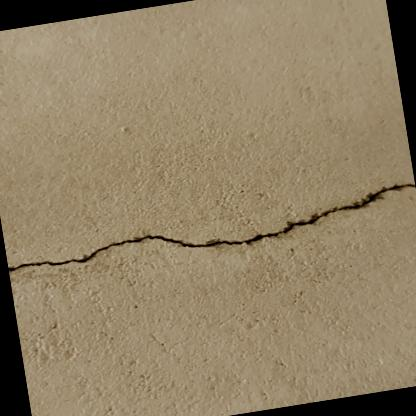crack: (7, 183, 415, 271)
